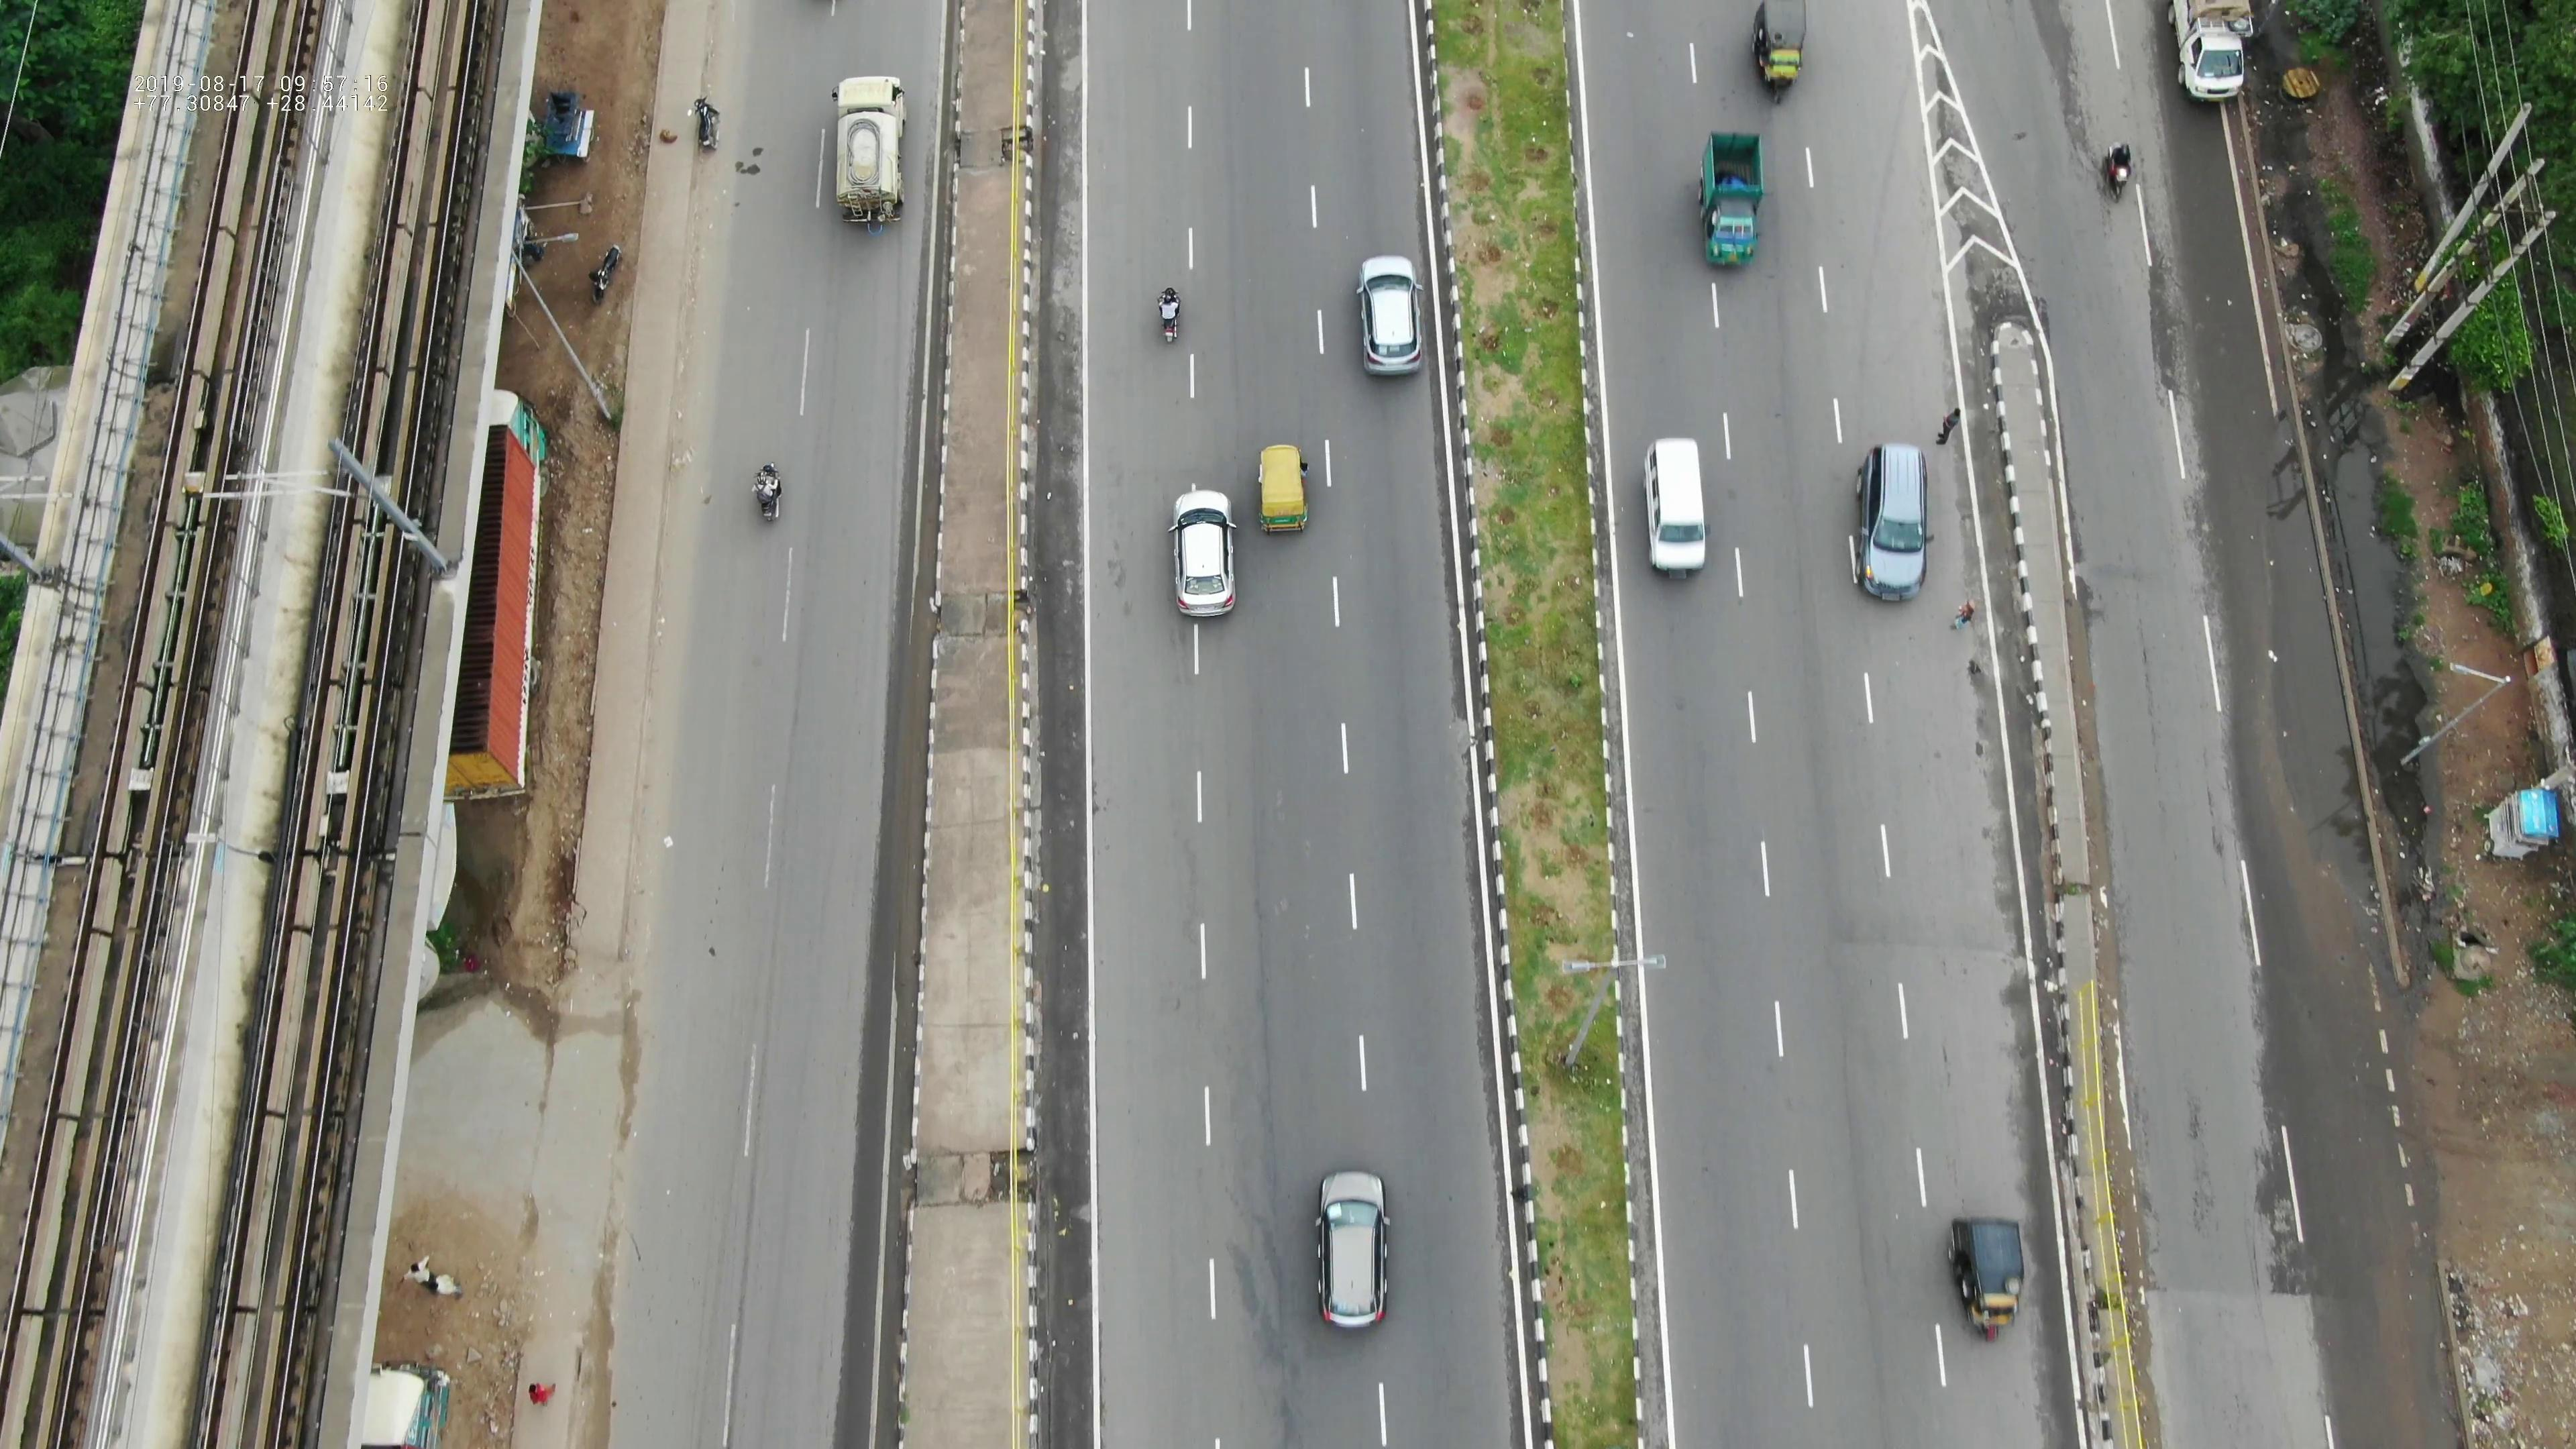Waterlogging: (2256, 414, 2465, 897)
